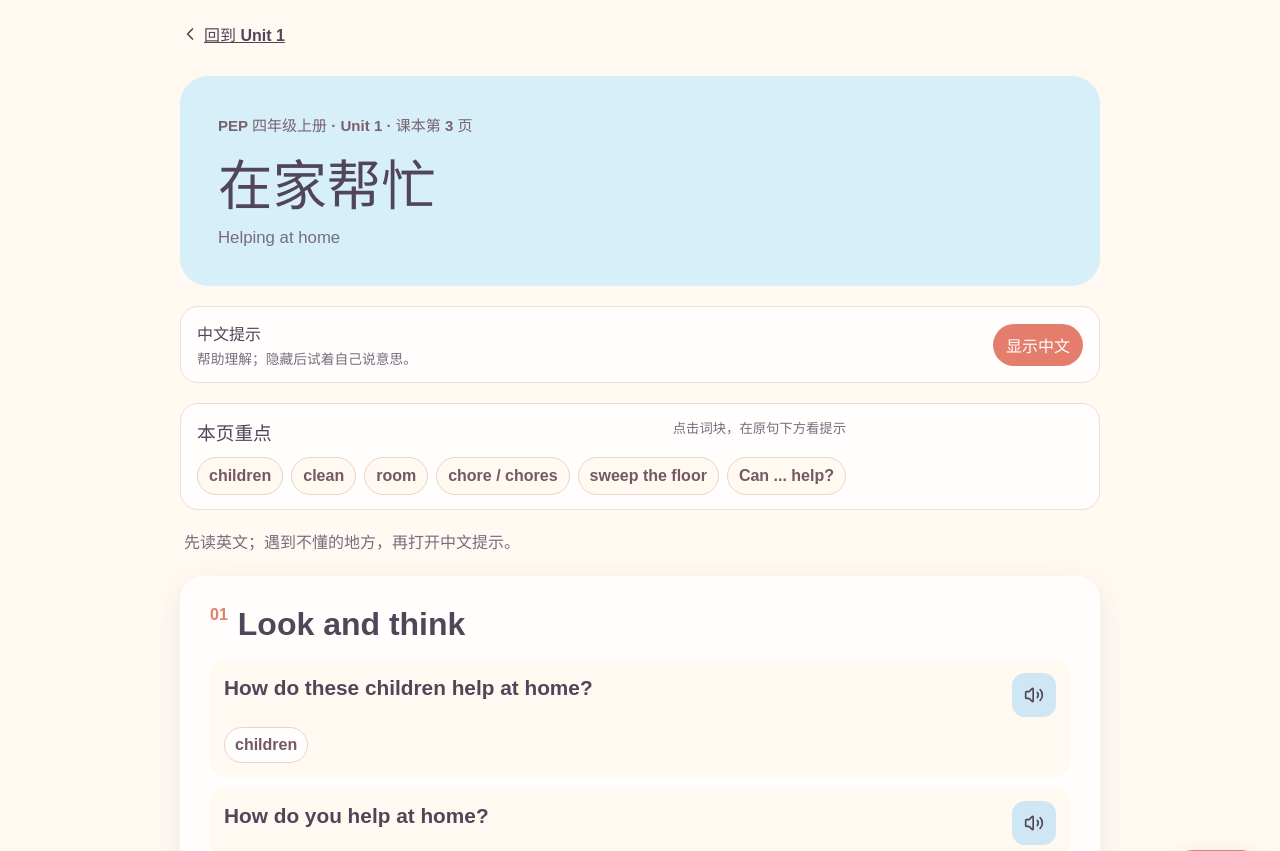
Test case: SchoolTextbookPage › 在当前句子下方显示重点提示
Click the button with aria-label "查看 children 提示".
click(266, 745)  # box [224,727,308,763]
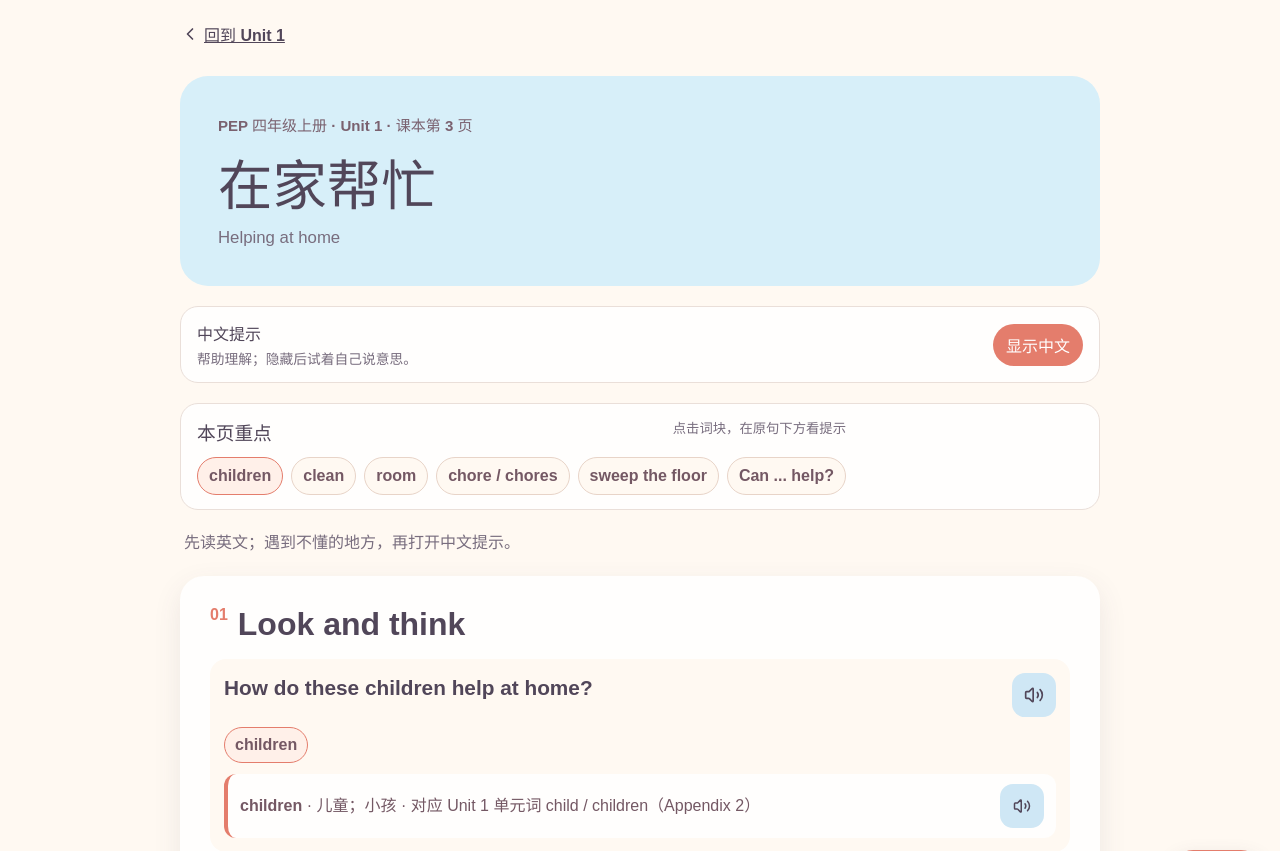
Check: the text "· 儿童；小孩 · 对应 Unit 1 单元词 child / children（Appendix 2）" is shown, box [302,797,760,814]
